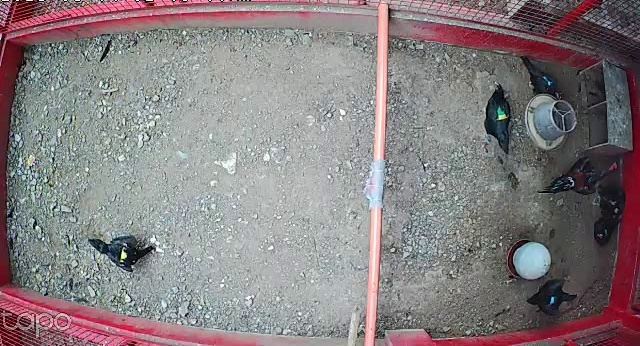Chicken: (87, 232, 156, 273), (481, 77, 513, 156), (516, 54, 566, 100), (522, 277, 579, 317)
Rooster: (537, 153, 618, 198)
Saddle_Color_Blue: (549, 296, 558, 305)
Saddle_Color_Bluegreen: (542, 75, 552, 85)
Saddle_Color_Yellow: (120, 248, 128, 263)
Saddle_Color_YellowGreen: (494, 105, 510, 123)
